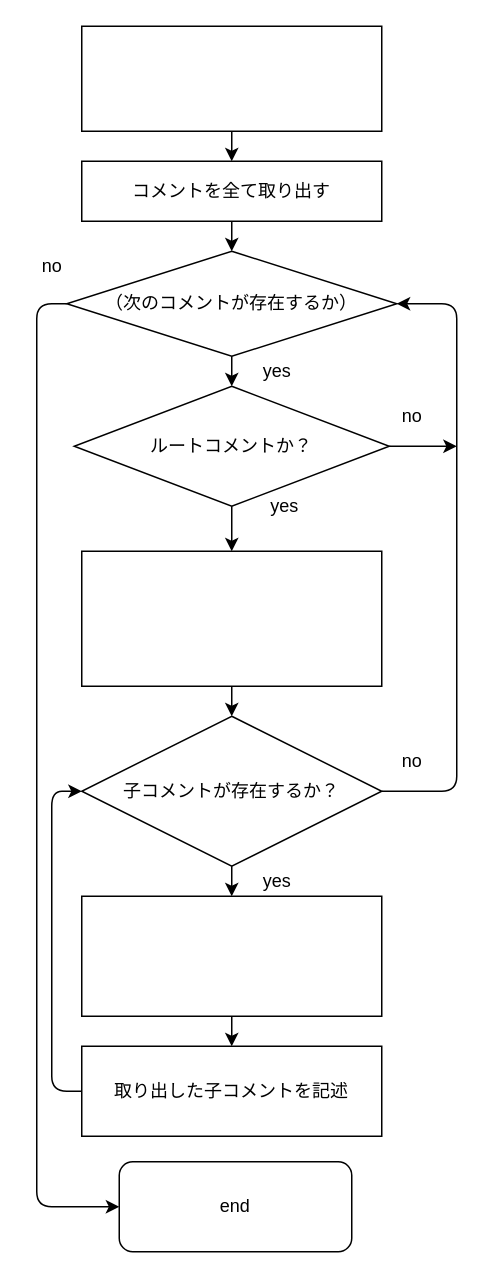
Image size: 495x1278. Some labels were removed from this diagram. The shapes that lost their labels are listed below. From the top down, each one's centre as x and y in pixels, then its label:
the point at 231,78: コメントの記述開始
the point at 231,618: ルートコメントの記述
the point at 231,955: 子コメントを全て取り出す
